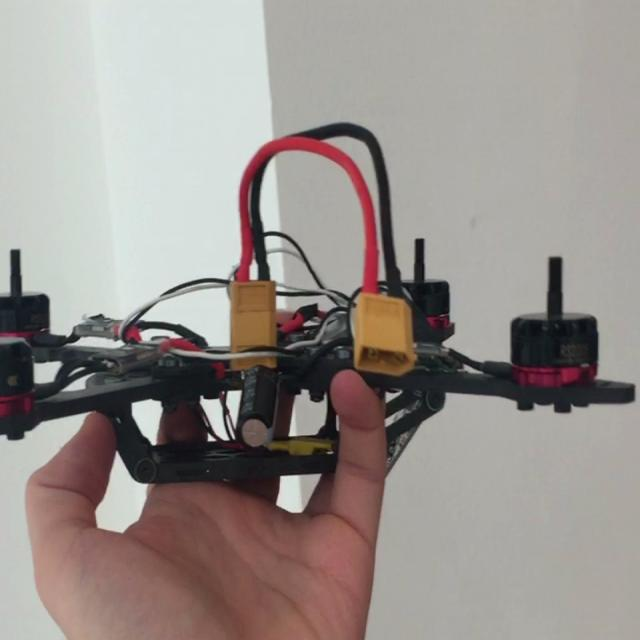drone: (0, 213, 640, 512)
